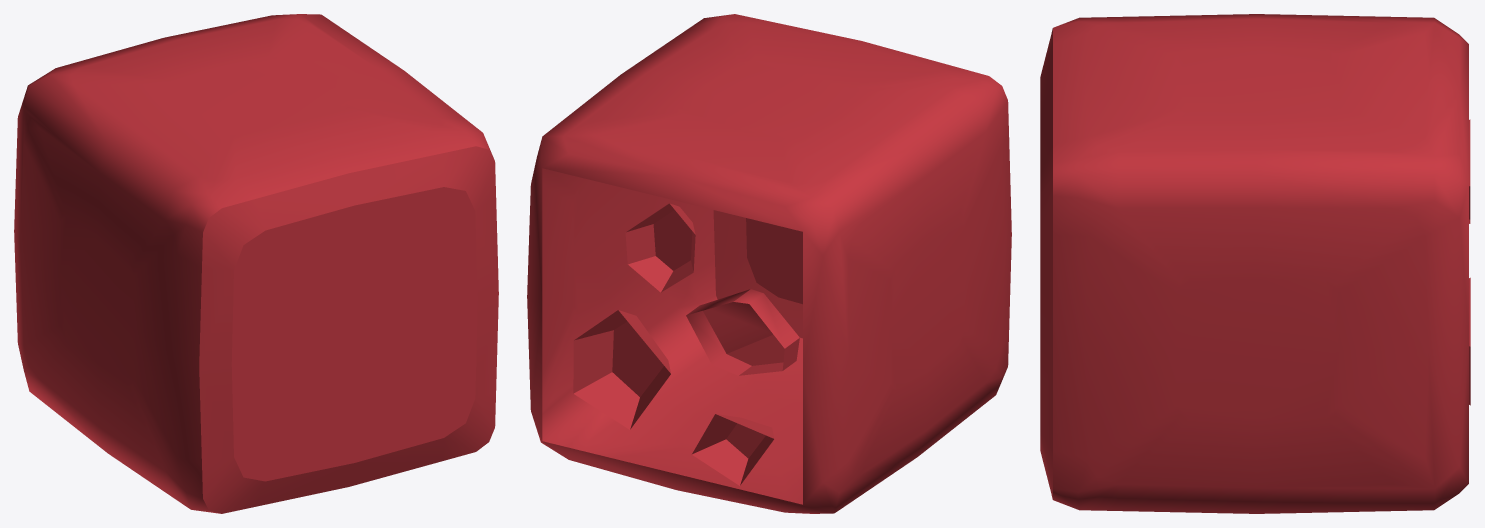
The model's file is airhockey_wall1_geo.glb.
3 views of the same model, side by side, from view 1: azimuth 30°, elevation 25°; view 2: azimuth 150°, elevation 25°; view 3: azimuth 270°, elevation 25° (orthographic). The views are drawn at different scales.
Parts seen in each view (by area): view 1: wall_1; view 2: wall_1, wall_1_destroyed; view 3: wall_1.
Part boxes in pixels (bbox=[...]): wall_1: bbox=[14, 14, 498, 513]; wall_1: bbox=[527, 14, 1011, 513]; wall_1_destroyed: bbox=[573, 203, 799, 485]; wall_1: bbox=[1040, 14, 1468, 513].
Bounding box in the file's own units: 1.01 × 1 × 1.07.
